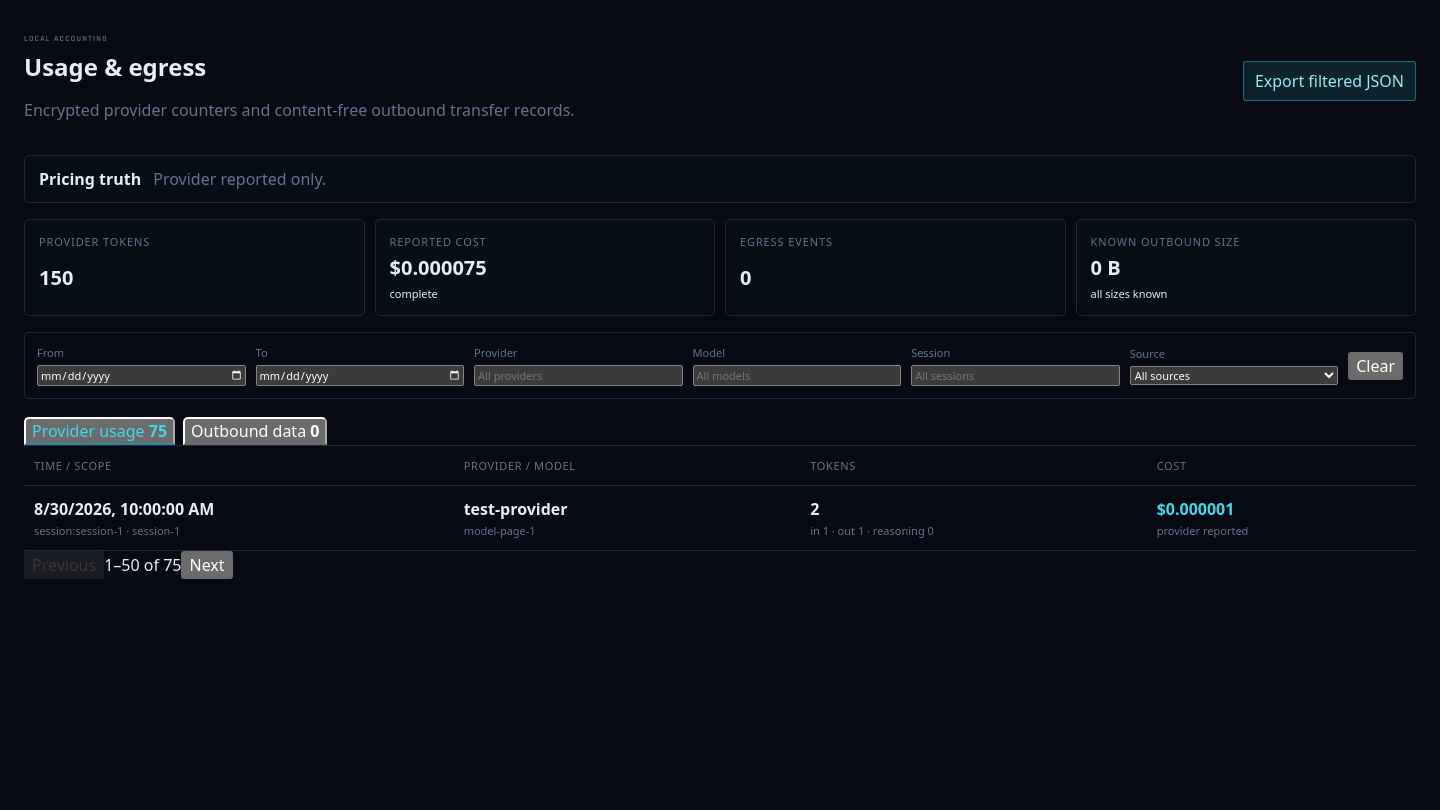
Test case: usage and egress pagination › requests bounded pages and advances to the next provider-usage page
Check: the text "model-page-1" is shown, box left=464, top=523, right=536, bottom=538
Check: the text "1–50 of 75" is shown, box left=104, top=554, right=182, bottom=576
Click the button named "Next usage page".
click(207, 565)  # box left=182, top=551, right=233, bottom=579
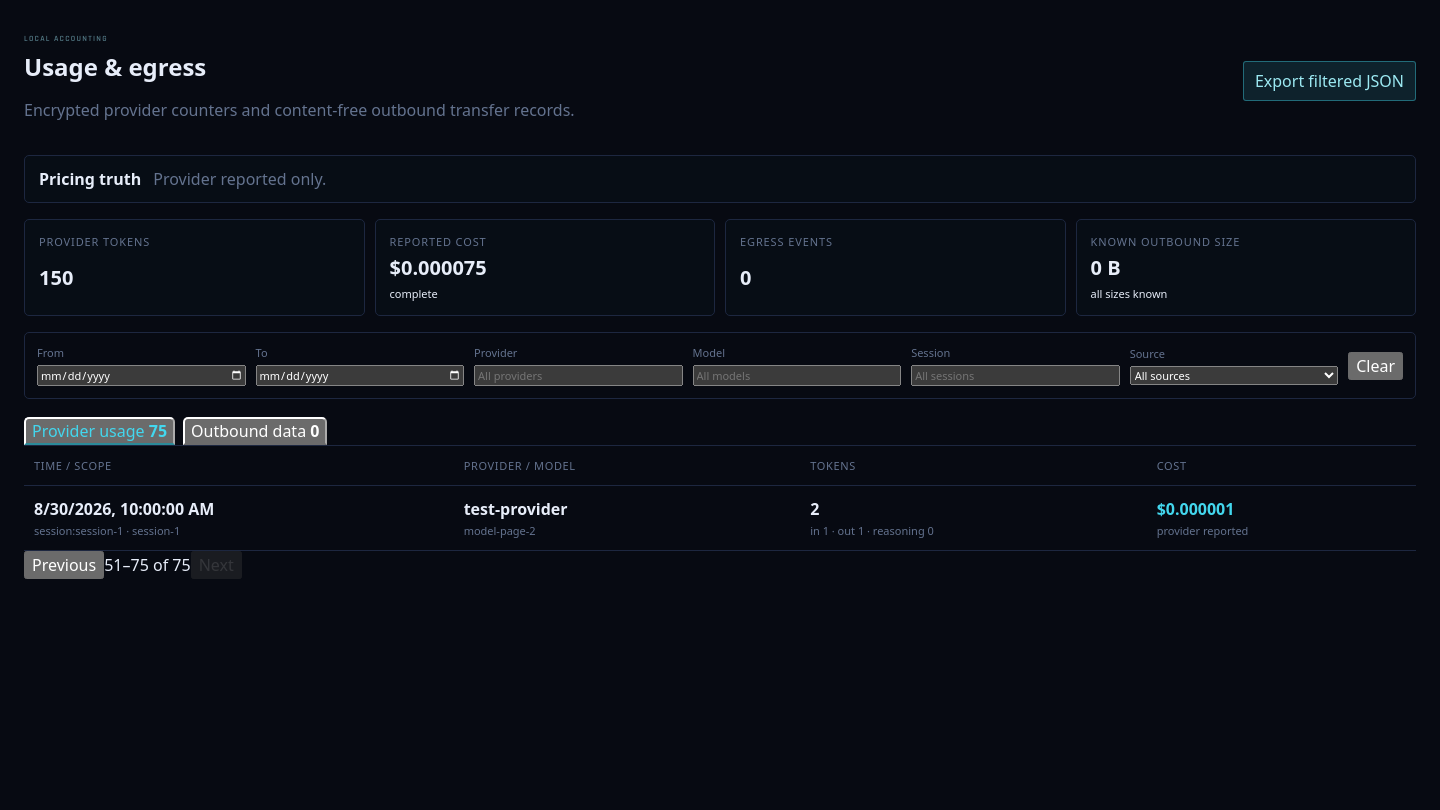
Check: the text "model-page-2" is shown, box left=464, top=523, right=536, bottom=538
Check: the text "51–75 of 75" is shown, box left=104, top=554, right=191, bottom=576
Check: the button named "Next usage page" is disabled, box left=191, top=551, right=242, bottom=579
Type "needle-provider" into the field with placeholder "All providers".
click(578, 376); type("needle-provider")  # box left=474, top=365, right=683, bottom=386
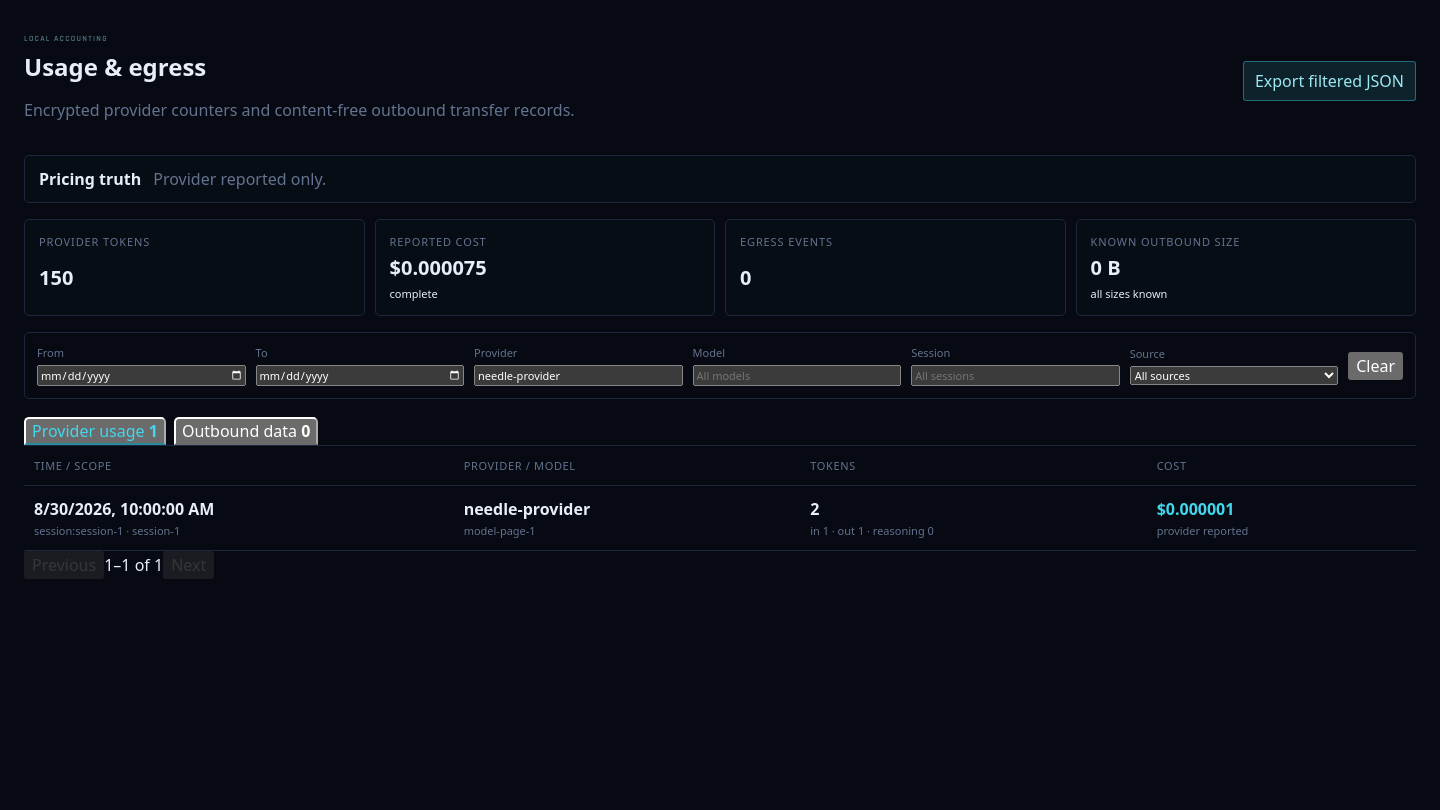
Check: the text "needle-provider" is shown, box left=464, top=498, right=590, bottom=520
Check: the text "1–1 of 1" is shown, box left=104, top=554, right=163, bottom=576
Check: the button named "Previous usage page" is disabled, box left=24, top=551, right=104, bottom=579
